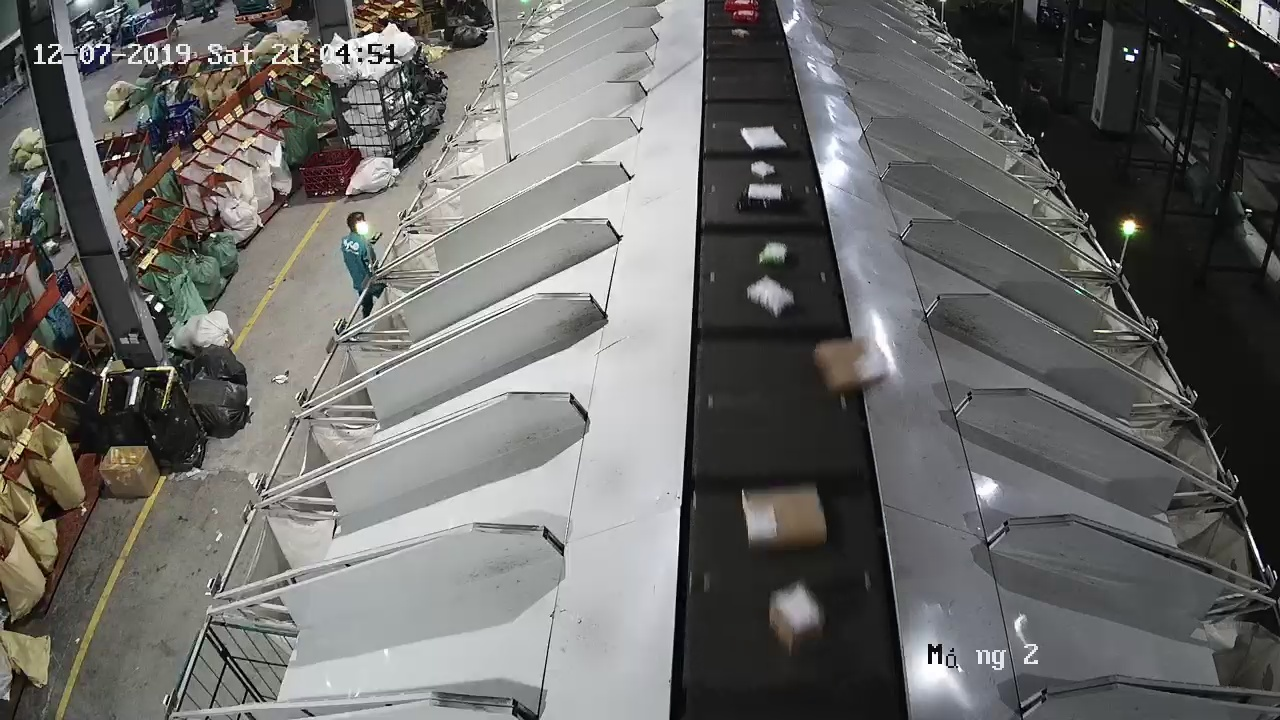parcel: (810, 335, 888, 396)
